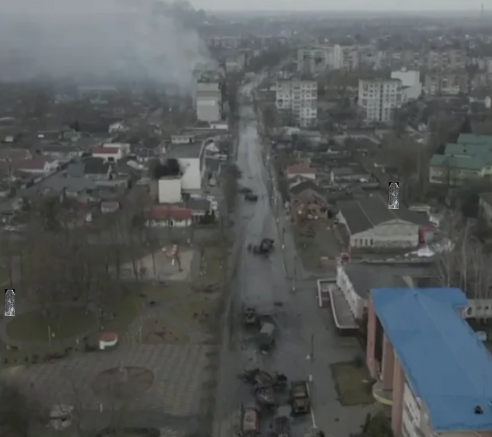HVT1: (388, 182, 399, 209), (5, 288, 15, 316)
